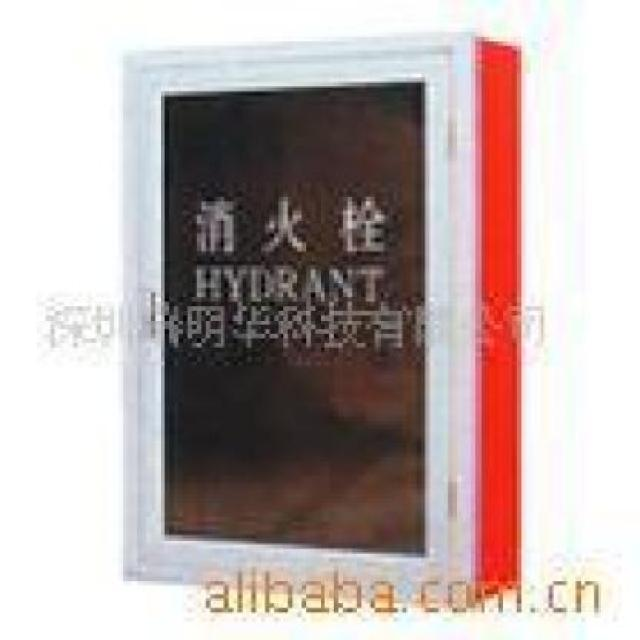firehydrant: (115, 23, 530, 610)
